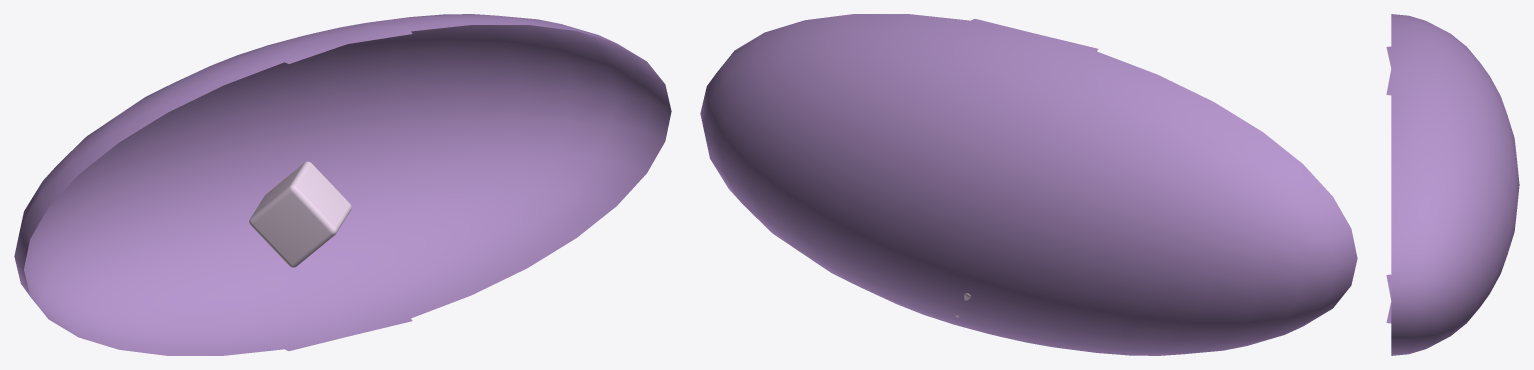
File: tile-1.glb
The picture shows the model from 3 angles, left to right: view 1: azimuth 30°, elevation 25°; view 2: azimuth 150°, elevation 25°; view 3: azimuth 270°, elevation 25°; orthographic projection. The views are drawn at different scales.
Parts seen in each view (by area): view 1: Background, Cube; view 2: Background; view 3: Background.
Part boxes in pixels (x1,y1,x2,y2): Background: [14, 14, 671, 355]; Cube: [249, 161, 351, 267]; Background: [700, 14, 1357, 355]; Background: [1386, 14, 1519, 355].
Size of the model in its own units: 28.79 by 12.43 by 6.45.
